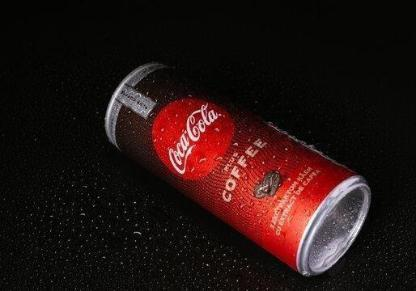Can: (101, 61, 373, 280)
